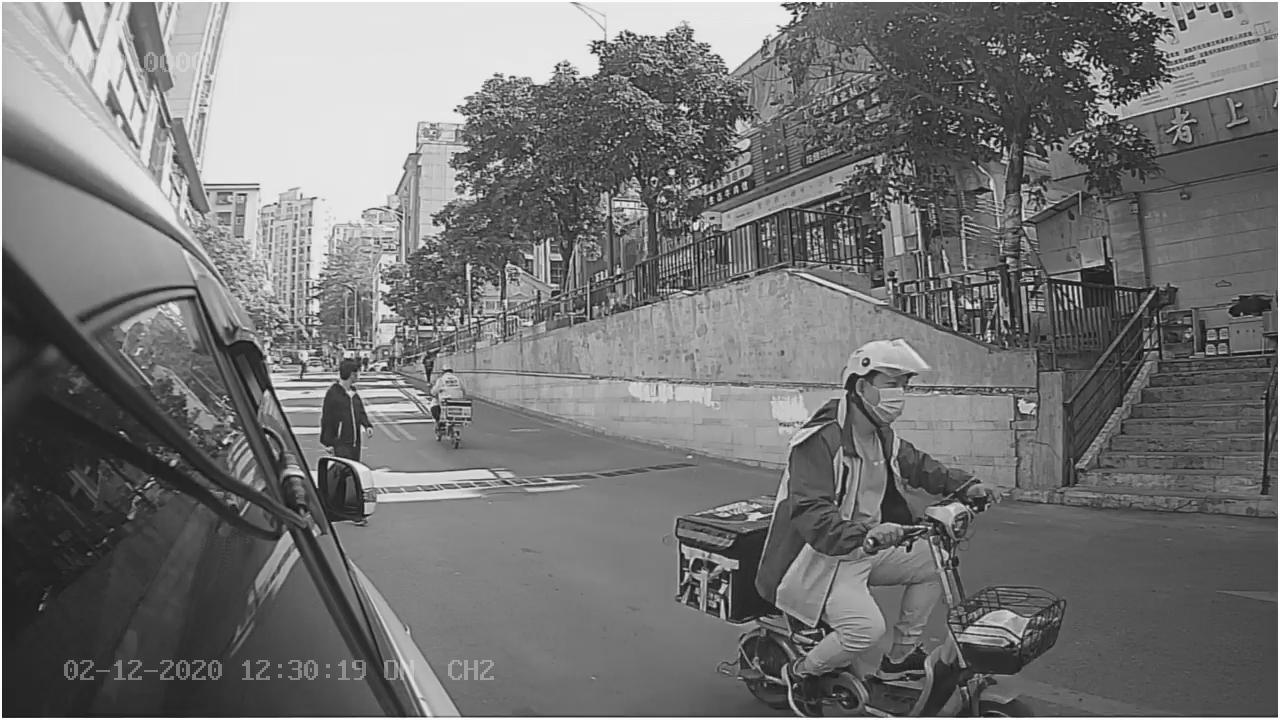person: (779, 329, 946, 546)
